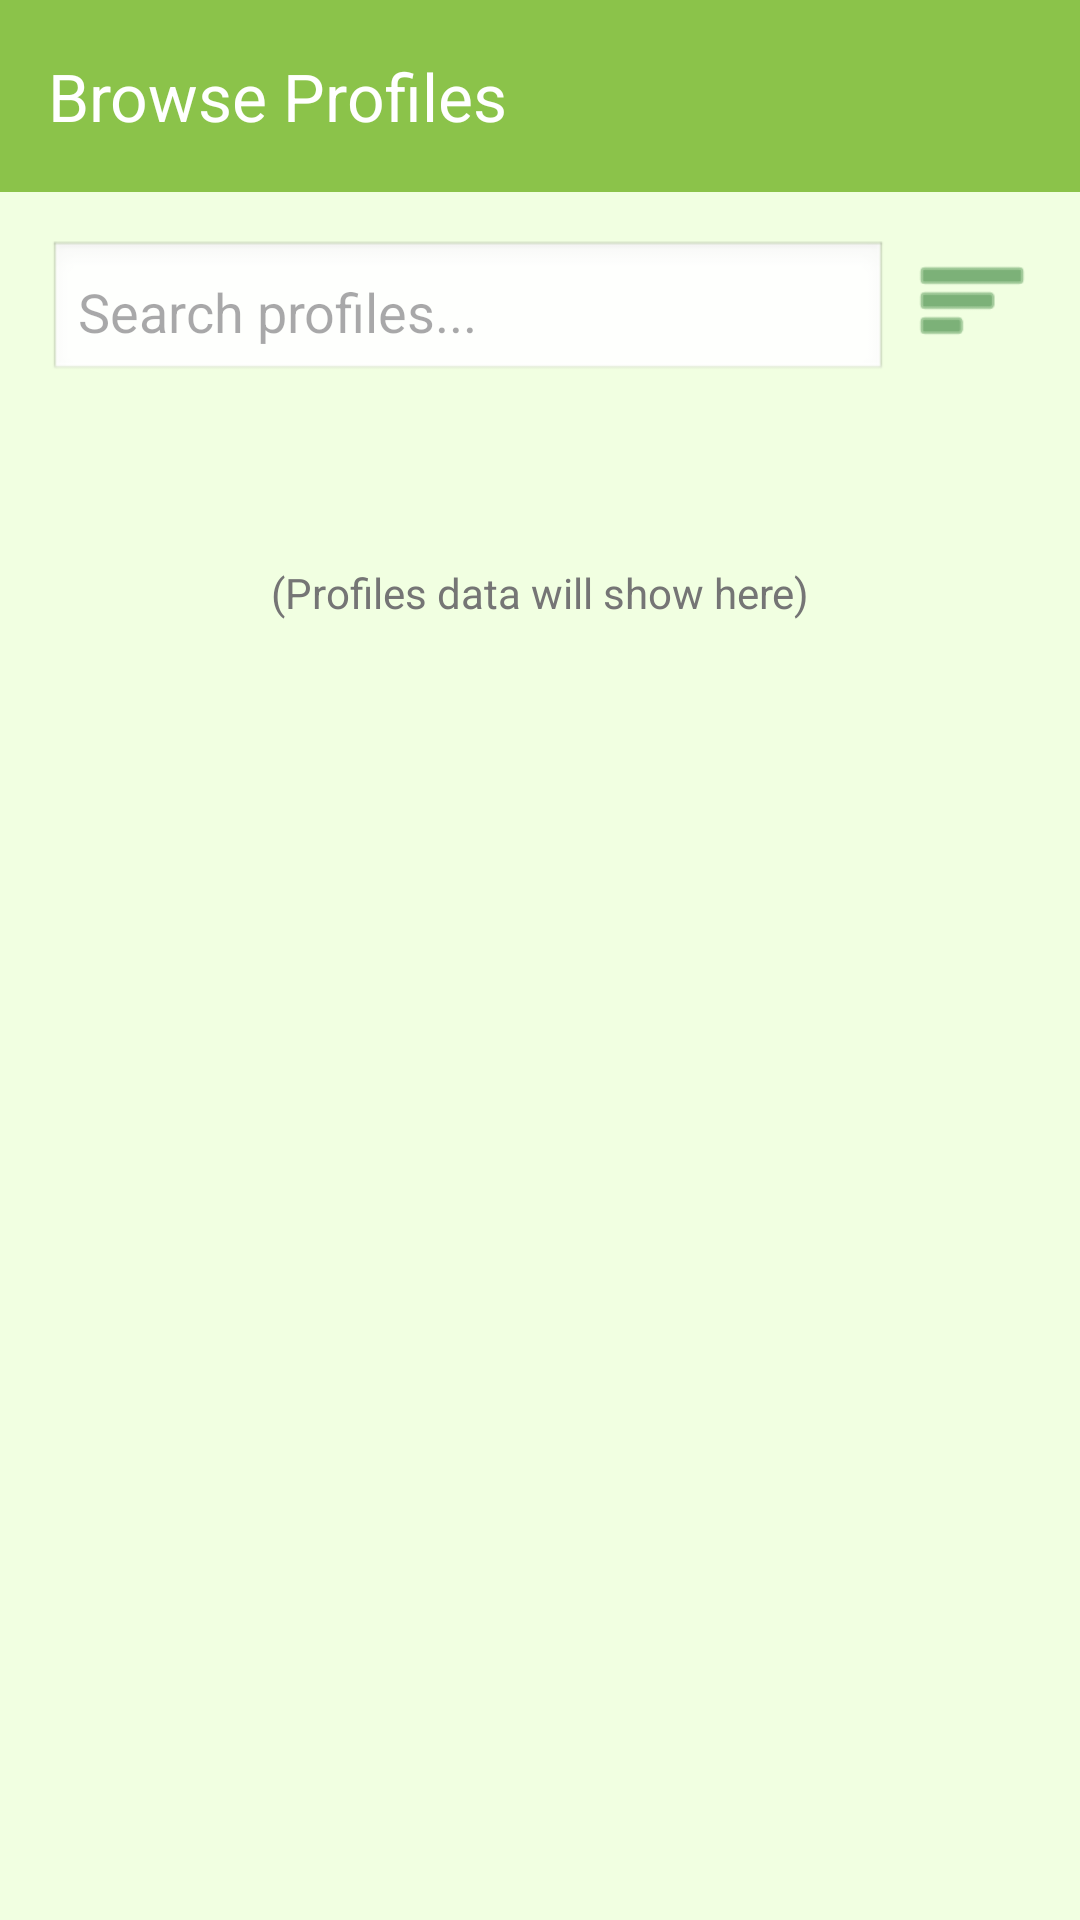

Where to tap for icons on this 1080px×1920px app screen, as point (x, y):
sort by size: point (972, 300)
